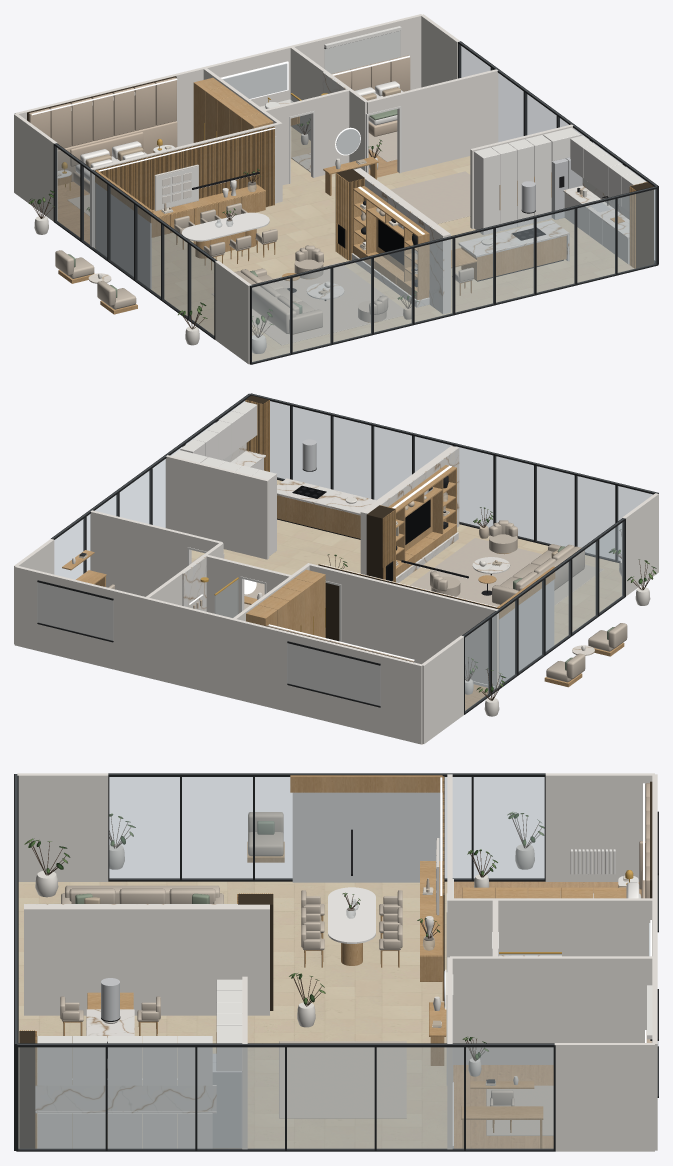
Rendered from apartamento.glb.
The picture shows the model from 3 angles, top to bottom: view 1: azimuth 30°, elevation 25°; view 2: azimuth 150°, elevation 25°; view 3: azimuth 270°, elevation 25°; orthographic projection. The views are drawn at different scales.
Visible parts, largest first — view 1: apto_vidro, apto_parede, apto_porcelanato, apto_carvalho, apto_laca, apto_esquadria, apto_bege_painel, apto_ripado, apto_tapete, apto_tecido, apto_marmore, apto_ripado_fundo (+13 smaller); view 2: apto_parede, apto_vidro, apto_carvalho, apto_esquadria, apto_porcelanato, apto_tecido, apto_marmore, apto_laca, apto_tapete, apto_espelho, apto_ripado_fundo, apto_ripado (+5 smaller); view 3: apto_parede, apto_vidro, apto_porcelanato, apto_laca, apto_espelho, apto_esquadria, apto_carvalho, apto_tapete, apto_tecido, apto_marmore, apto_piso_madeira, apto_ripado_fundo (+8 smaller).
Boxes of the visible parts, box(x1,y1,x2,y2) form: apto_vidro: box(55, 31, 656, 362); apto_parede: box(14, 14, 573, 364); apto_porcelanato: box(94, 126, 634, 361); apto_carvalho: box(57, 77, 624, 322); apto_laca: box(57, 26, 645, 264); apto_esquadria: box(53, 41, 658, 364); apto_bege_painel: box(29, 55, 410, 193); apto_ripado: box(96, 116, 647, 268); apto_tapete: box(68, 131, 470, 345); apto_tecido: box(55, 203, 473, 334); apto_marmore: box(260, 72, 629, 314); apto_ripado_fundo: box(27, 76, 653, 268); apto_parede: box(14, 446, 658, 744); apto_vidro: box(38, 394, 655, 712); apto_carvalho: box(62, 465, 624, 687); apto_esquadria: box(37, 393, 658, 714); apto_porcelanato: box(191, 480, 621, 644); apto_tecido: box(104, 520, 627, 682); apto_marmore: box(182, 443, 510, 611); apto_laca: box(171, 401, 494, 688); apto_tapete: box(191, 538, 603, 609); apto_espelho: box(499, 580, 554, 684); apto_ripado_fundo: box(246, 395, 497, 662); apto_ripado: box(245, 400, 497, 608); apto_parede: box(17, 773, 657, 1151); apto_vidro: box(15, 774, 658, 1149); apto_porcelanato: box(18, 881, 447, 1148); apto_laca: box(37, 840, 652, 1148); apto_espelho: box(292, 792, 650, 1008); apto_esquadria: box(14, 773, 658, 1151); apto_carvalho: box(63, 775, 626, 1148); apto_tapete: box(279, 1041, 553, 1135); apto_tecido: box(60, 812, 514, 1106); apto_marmore: box(24, 904, 561, 1113); apto_piso_madeira: box(453, 881, 641, 1148); apto_ripado_fundo: box(19, 776, 652, 1148).
Size of the model in its own units: 15.99 by 2.6 by 14.16.
43 materials, 9 textured.
